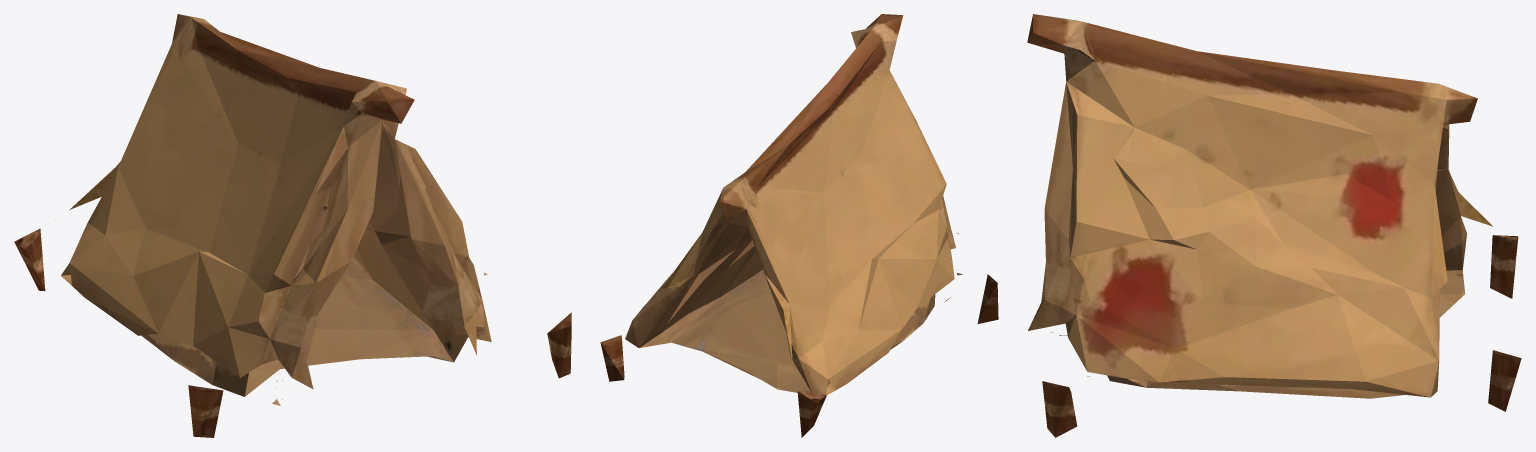
The model's file is tent-small.glb.
The picture shows the model from 3 angles, left to right: view 1: azimuth 30°, elevation 25°; view 2: azimuth 150°, elevation 25°; view 3: azimuth 270°, elevation 25°; orthographic projection. The views are drawn at different scales.
Visible parts, largest first — view 1: tent-small; view 2: tent-small; view 3: tent-small.
Part boxes in pixels (x1,y1,x2,y2): tent-small: [14, 14, 571, 437]; tent-small: [600, 14, 998, 437]; tent-small: [1027, 14, 1521, 437].
Size of the model in its own units: 1.78 by 1.59 by 2.1.
1 material, 1 textured.
